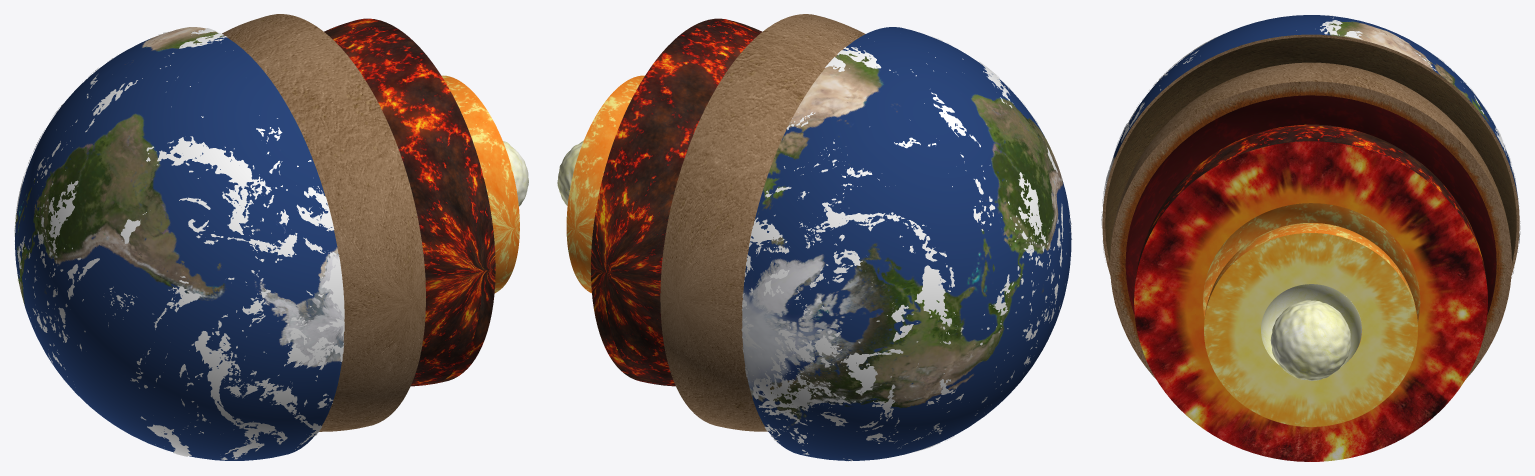
The model's file is 3D_max_FBX_Layers_of_the_earth.fbx.
3 renders of one model, left to right at view 1: azimuth 30°, elevation 25°; view 2: azimuth 150°, elevation 25°; view 3: azimuth 270°, elevation 25°, orthographic. The views are drawn at different scales.
Parts seen in each view (by area): view 1: DUNYA, Sekil_3, Sekil_6, bulut, Sekil_9, Cekirdek; view 2: DUNYA, Sekil_3, Sekil_6, bulut, Sekil_9, Cekirdek; view 3: Ateskure, discekirdek, Sekil_5, Sekil_2, Manto, DUNYA, Sekil_3, Cekirdek, Sekil_8, Sekil_6, Sekil_11, Yerkabugu (+2 smaller).
Part boxes in pixels (left/top/right/bottom): DUNYA: left=15, top=27, right=344, bottom=460; Sekil_3: left=222, top=14, right=425, bottom=431; Sekil_6: left=324, top=18, right=495, bottom=386; bulut: left=14, top=28, right=344, bottom=460; Sekil_9: left=441, top=75, right=519, bottom=292; Cekirdek: left=503, top=141, right=528, bottom=206; DUNYA: left=742, top=27, right=1071, bottom=460; Sekil_3: left=660, top=14, right=865, bottom=431; Sekil_6: left=591, top=18, right=762, bottom=386; bulut: left=741, top=36, right=1072, bottom=461; Sekil_9: left=566, top=75, right=644, bottom=293; Cekirdek: left=557, top=140, right=583, bottom=205; Ateskure: left=1134, top=141, right=1487, bottom=461; discekirdek: left=1204, top=233, right=1417, bottom=426; Sekil_5: left=1125, top=95, right=1496, bottom=314; Sekil_2: left=1105, top=37, right=1516, bottom=262; Manto: left=1110, top=81, right=1511, bottom=379; DUNYA: left=1102, top=15, right=1519, bottom=218; Sekil_3: left=1110, top=62, right=1511, bottom=308; Cekirdek: left=1270, top=300, right=1350, bottom=380; Sekil_8: left=1203, top=203, right=1420, bottom=321; Sekil_6: left=1134, top=124, right=1487, bottom=291; Sekil_11: left=1261, top=284, right=1361, bottom=367; Yerkabugu: left=1102, top=34, right=1519, bottom=275.
Size of the model in its own units: 100 by 80.06 by 80.09.
13 materials, 12 textured.
